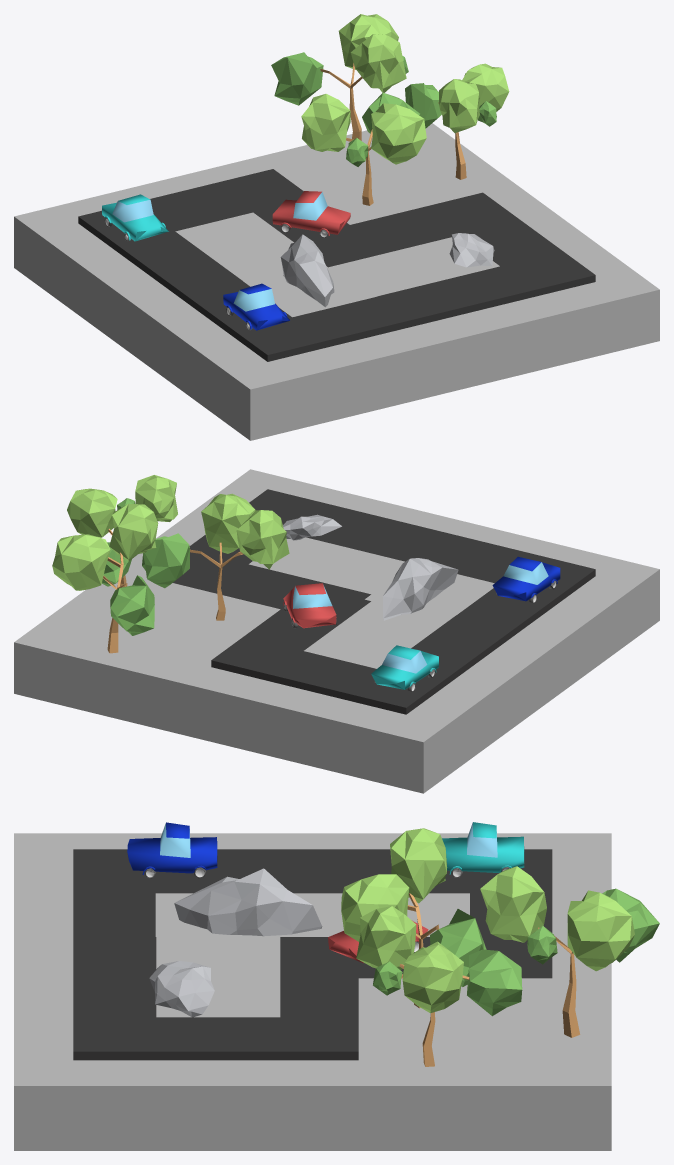
The model's file is building_racetrack.fbx.
The picture shows the model from 3 angles, top to bottom: view 1: azimuth 30°, elevation 25°; view 2: azimuth 150°, elevation 25°; view 3: azimuth 270°, elevation 25°; orthographic projection. The views are drawn at different scales.
Visible parts, largest first — view 1: body; view 2: body; view 3: body.
Part boxes in pixels (x1=…): body: x1=14, y1=14, x2=659, y2=440; body: x1=14, y1=469, x2=659, y2=793; body: x1=14, y1=822, x2=659, y2=1150.
Bounding box in the file's own units: 51.59 × 21.3 × 54.04.
